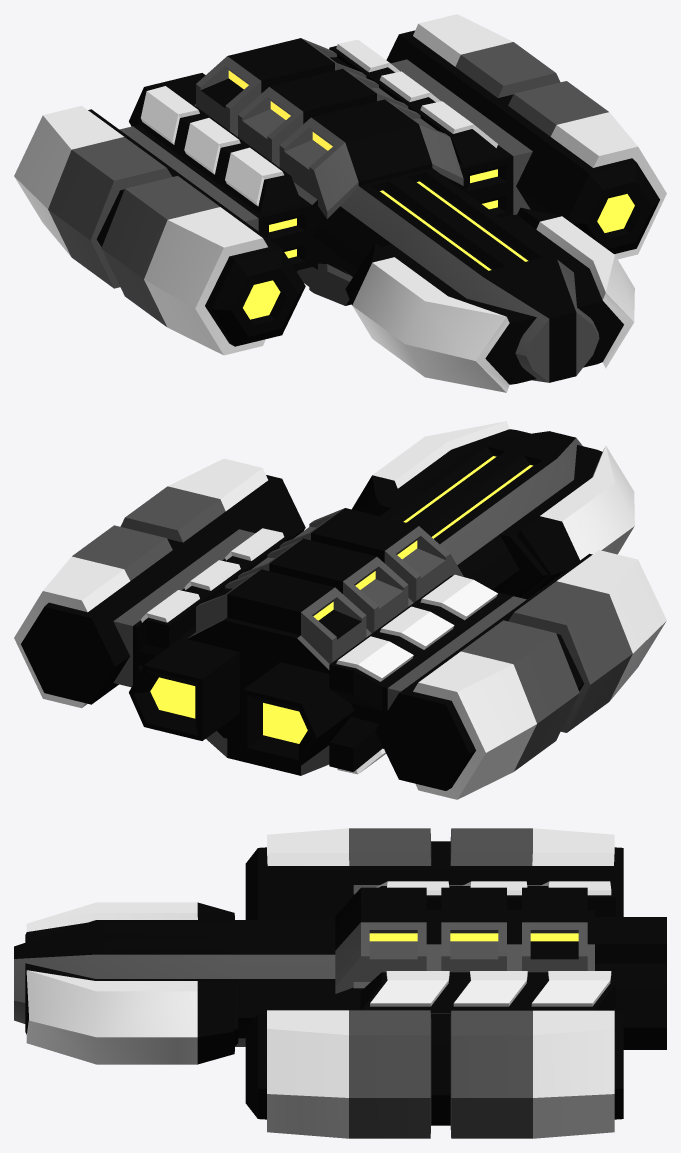
Rendered from 01_ship_medium_partell.glb.
The picture shows the model from 3 angles, top to bottom: view 1: azimuth 30°, elevation 25°; view 2: azimuth 150°, elevation 25°; view 3: azimuth 270°, elevation 25°; orthographic projection. The views are drawn at different scales.
Visible parts, largest first — view 1: 01_ship_medium_partell; view 2: 01_ship_medium_partell; view 3: 01_ship_medium_partell.
Part boxes in pixels (x1,y1,x2,y2): 01_ship_medium_partell: [14, 14, 666, 392]; 01_ship_medium_partell: [14, 421, 666, 799]; 01_ship_medium_partell: [14, 828, 666, 1138].
Bounding box in the file's own units: 0.8302 × 0.2654 × 1.
